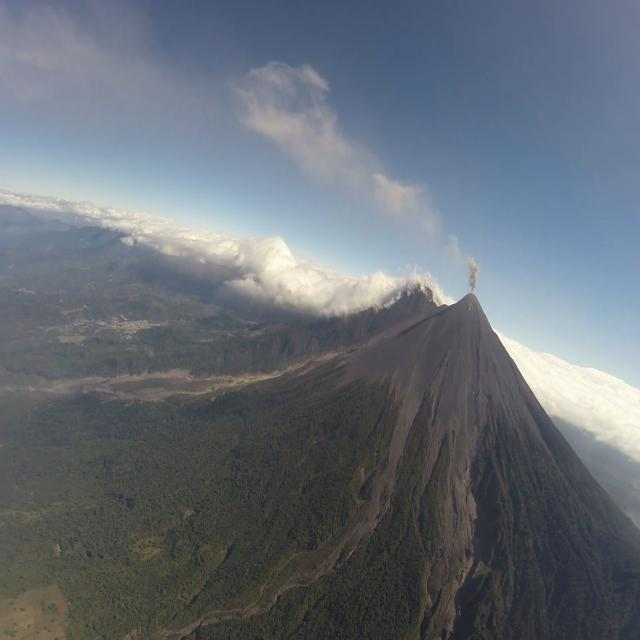Plume: (466, 258, 481, 294)
Summit: (454, 292, 487, 319)
